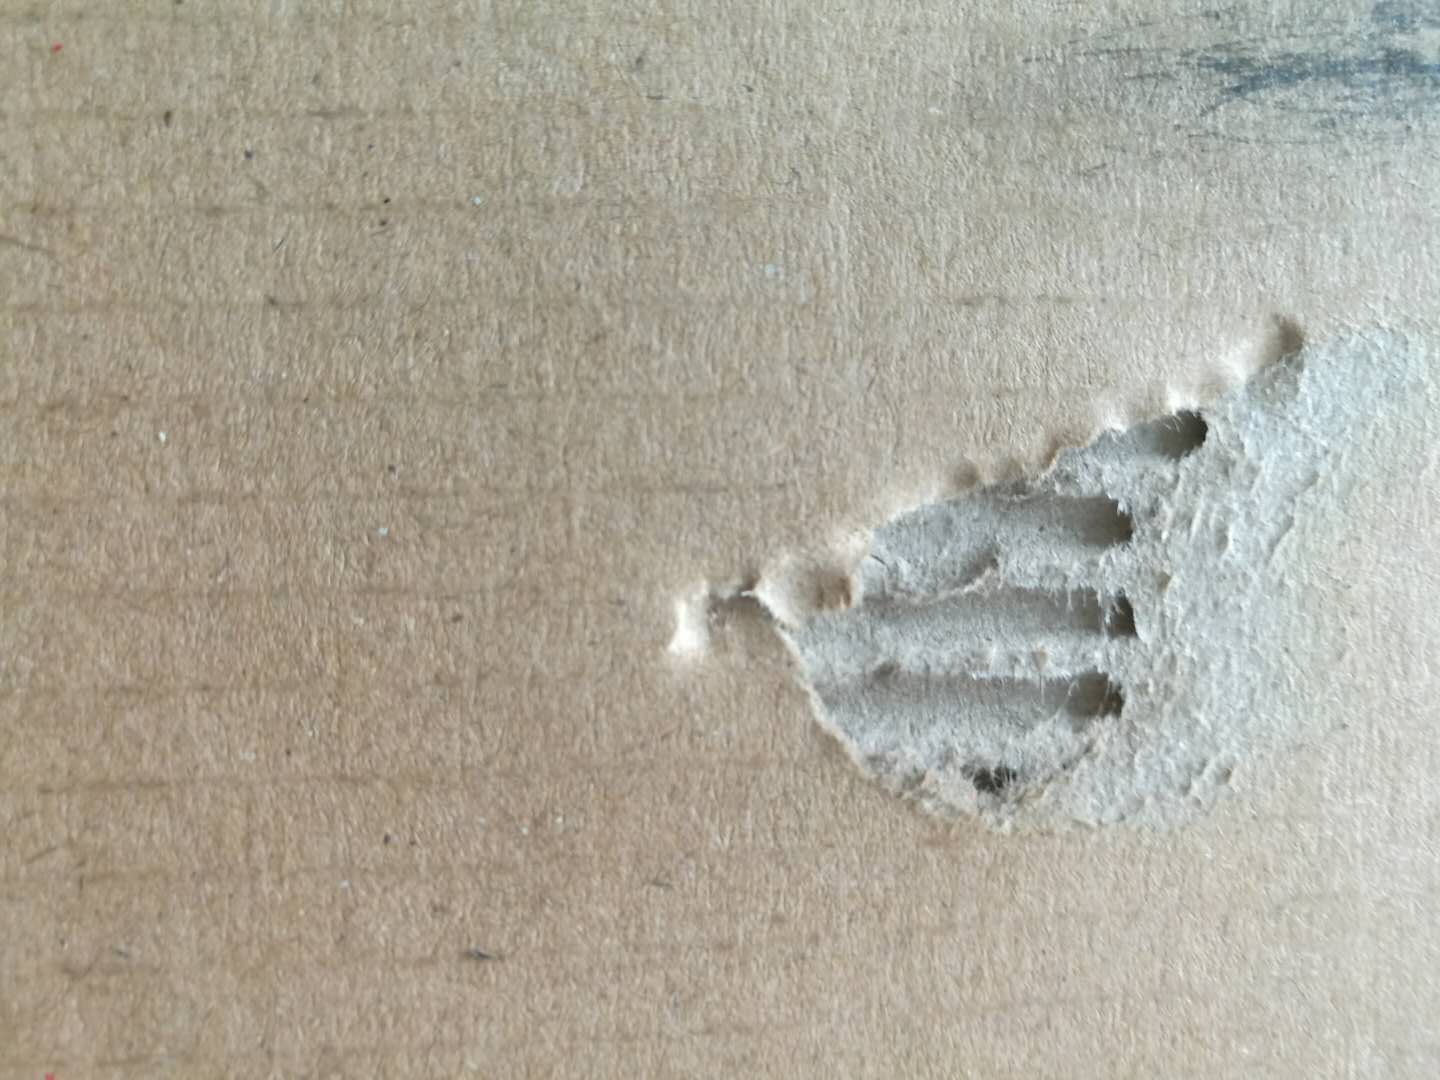defect: (639, 265, 1440, 877), (971, 1, 1440, 219)
